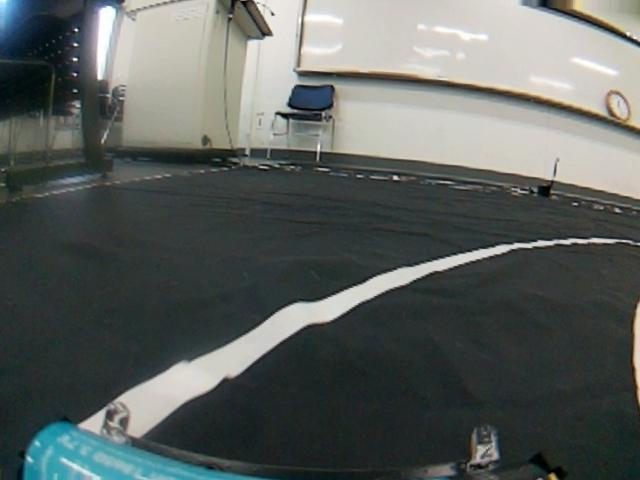right: (0, 209, 640, 480)
